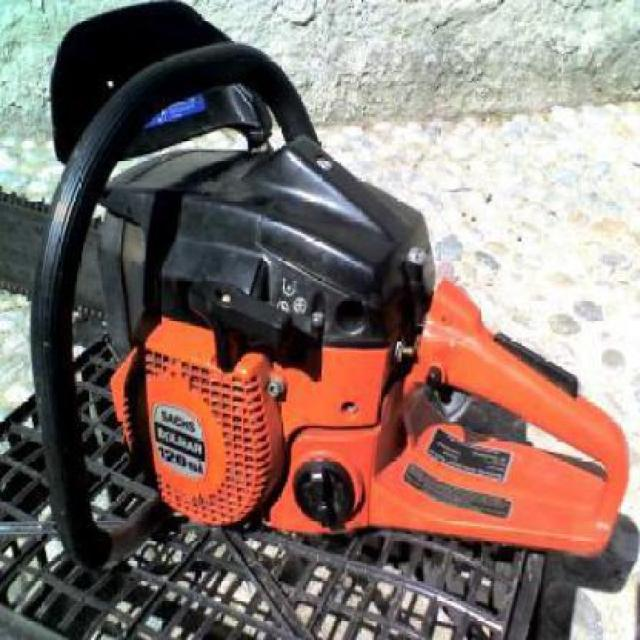Chainsaw: (0, 14, 631, 589)
